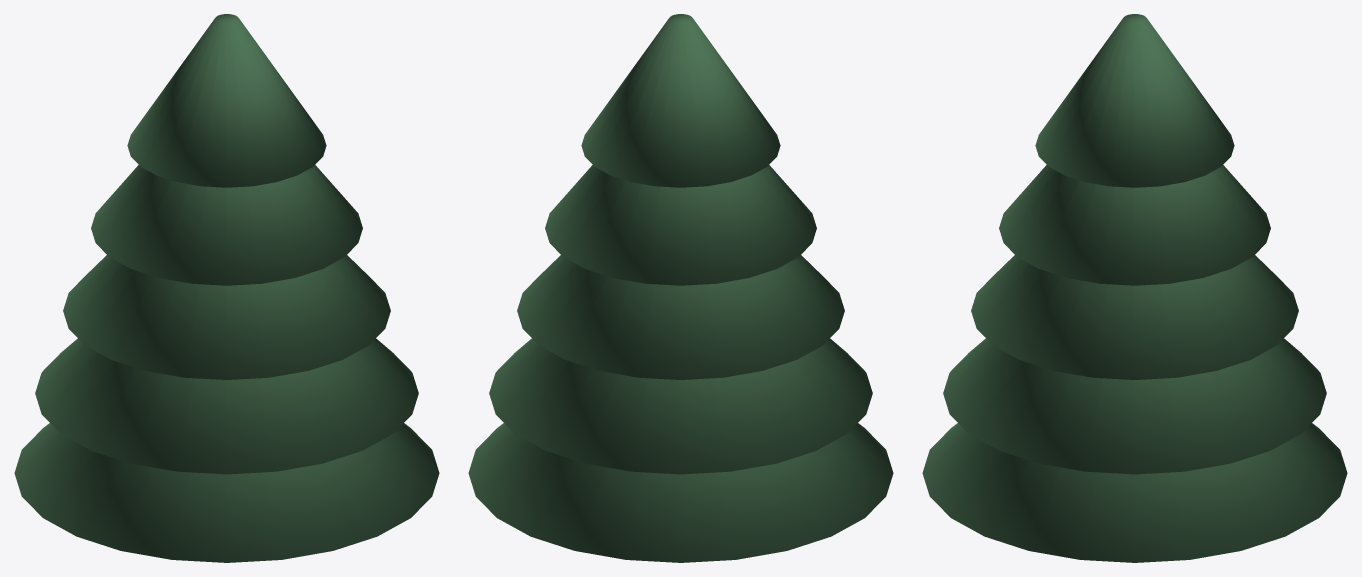
File: pine_tree_v6.glb
3 views of the same model, side by side, from view 1: azimuth 30°, elevation 25°; view 2: azimuth 150°, elevation 25°; view 3: azimuth 270°, elevation 25° (orthographic).
Visible parts, largest first — view 1: Pine_Crown_0, Pine_Crown_1, Pine_Crown_2, Pine_Crown_3, Pine_Crown_4; view 2: Pine_Crown_0, Pine_Crown_1, Pine_Crown_2, Pine_Crown_3, Pine_Crown_4; view 3: Pine_Crown_0, Pine_Crown_1, Pine_Crown_2, Pine_Crown_3, Pine_Crown_4.
Part boxes in pixels (x1=…): Pine_Crown_0: x1=14, y1=423, x2=439, y2=562; Pine_Crown_1: x1=35, y1=338, x2=418, y2=474; Pine_Crown_2: x1=63, y1=255, x2=390, y2=379; Pine_Crown_3: x1=91, y1=165, x2=362, y2=285; Pine_Crown_4: x1=127, y1=14, x2=326, y2=187; Pine_Crown_0: x1=468, y1=423, x2=893, y2=562; Pine_Crown_1: x1=489, y1=338, x2=872, y2=474; Pine_Crown_2: x1=517, y1=255, x2=844, y2=379; Pine_Crown_3: x1=545, y1=165, x2=816, y2=285; Pine_Crown_4: x1=581, y1=14, x2=780, y2=187; Pine_Crown_0: x1=922, y1=423, x2=1347, y2=562; Pine_Crown_1: x1=943, y1=338, x2=1326, y2=474; Pine_Crown_2: x1=971, y1=255, x2=1298, y2=379; Pine_Crown_3: x1=999, y1=165, x2=1270, y2=285; Pine_Crown_4: x1=1035, y1=14, x2=1234, y2=187.
Bounding box in the file's own units: 3.5 × 4.73 × 3.5.
